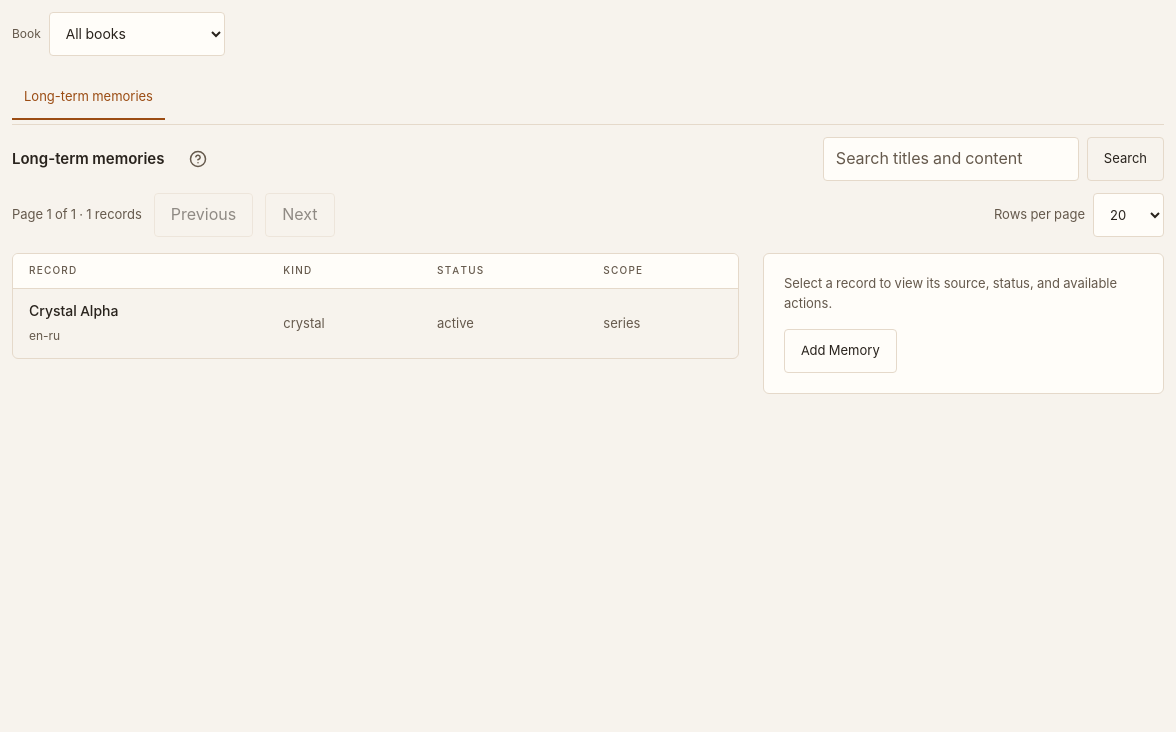
Scenario: selection survives a background dashboard refresh by stable id
The width and height of the screenshot is (1176, 732).
Click the button "Crystal Alpha en-ru" at (140,323), box [29,301,251,345]
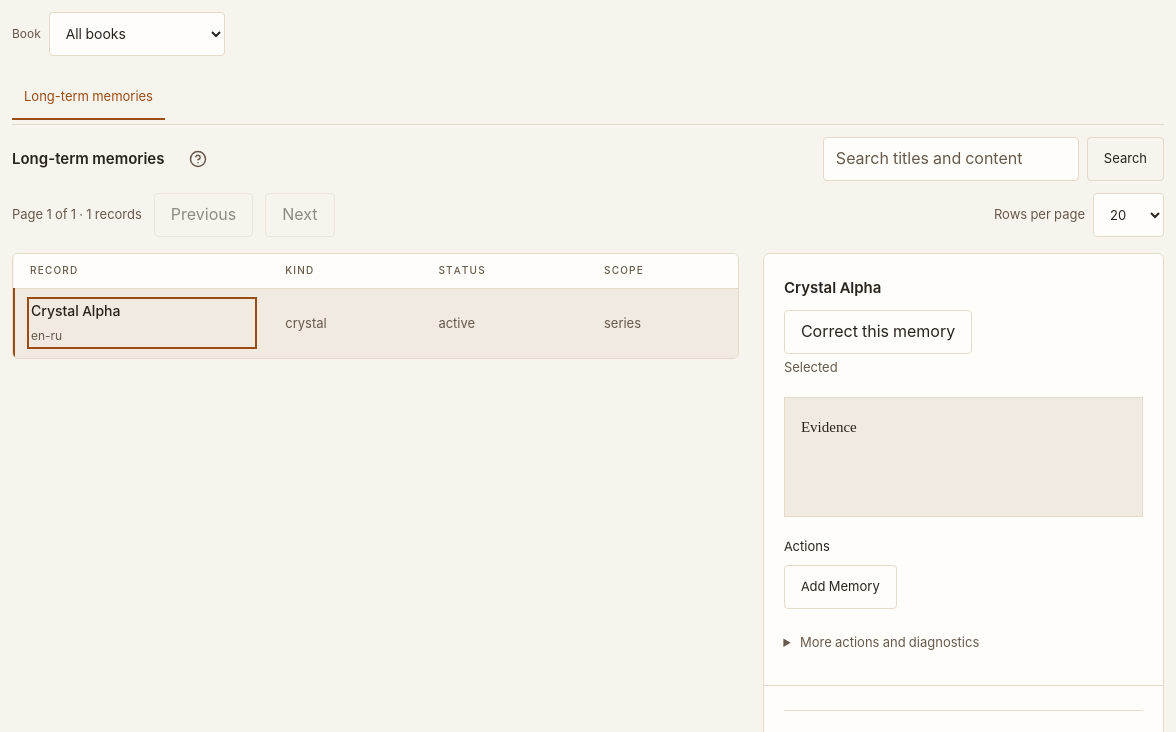
Check: the text "Evidence" is shown, box [784,397,1143,517]
